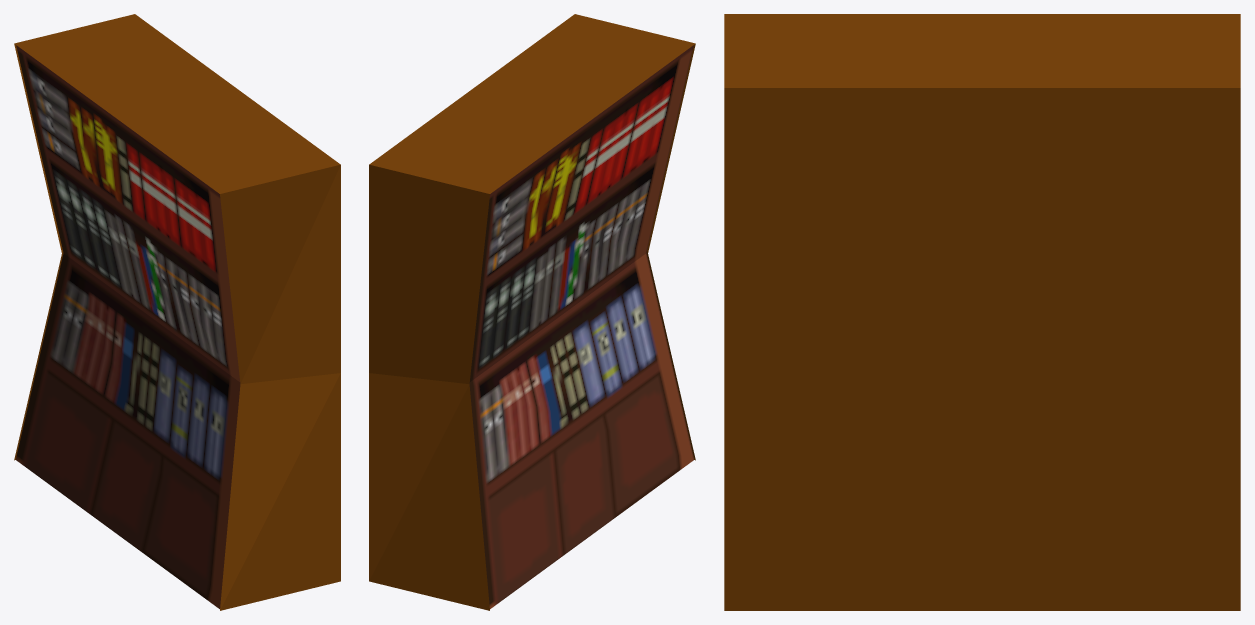
File: BüroWarenSchrank [Rot]_282.glb
3 views of the same model, side by side, from view 1: azimuth 30°, elevation 25°; view 2: azimuth 150°, elevation 25°; view 3: azimuth 270°, elevation 25° (orthographic). The views are drawn at different scales.
Visible parts, largest first — view 1: pCubeShape74, pCubeShape75; view 2: pCubeShape74, pCubeShape75; view 3: pCubeShape75.
Boxes of the visible parts, x1=… form: pCubeShape74: x1=16, y1=45, x2=240, y2=608; pCubeShape75: x1=14, y1=14, x2=340, y2=610; pCubeShape74: x1=469, y1=45, x2=693, y2=608; pCubeShape75: x1=369, y1=14, x2=695, y2=610; pCubeShape75: x1=724, y1=14, x2=1240, y2=610.
Size of the model in its own units: 0.0837 by 0.2755 by 0.2465.
2 materials, 1 textured.
